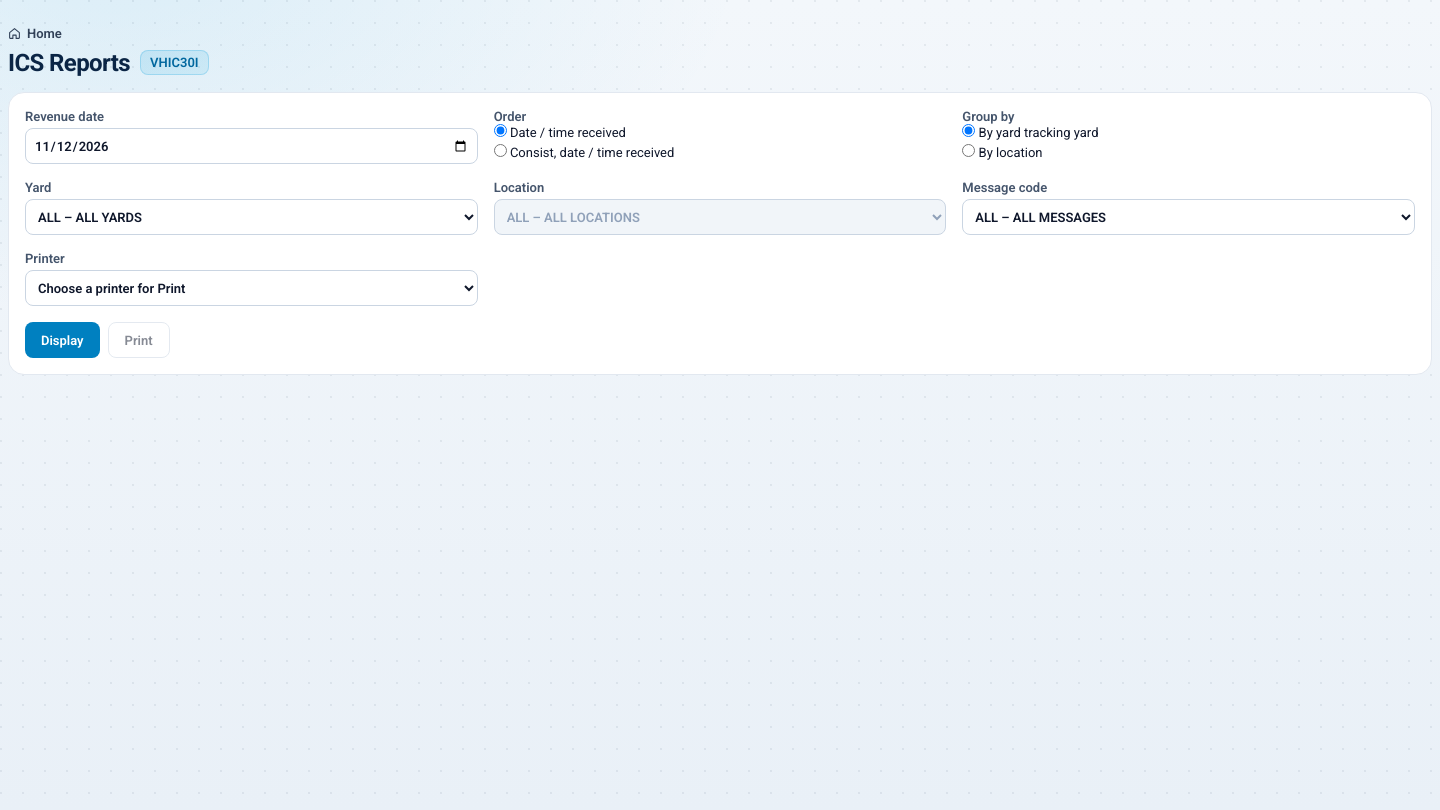
Test case: ICS reports page (old VHIC30I / VHIC31I) › Display asks for the messages with the chosen criteria and lists them
Type "2026-11-10" into the date field labelled "Revenue date". click: (251, 146)
box: [25,128,478,164]
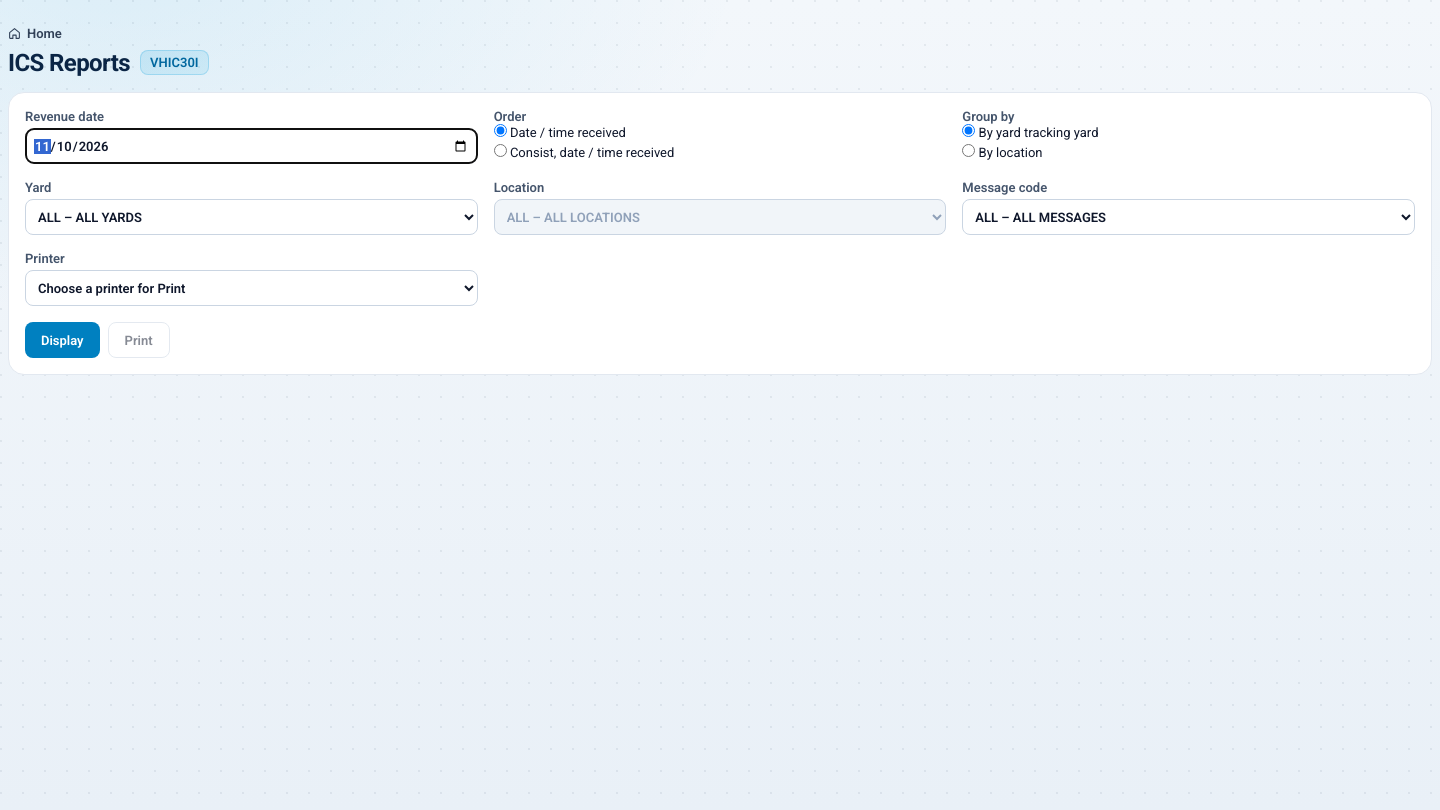
Select "CY – CONCORD YARD" in the dropdown labelled "Yard". click: (251, 217)
box: [25,199,478,235]
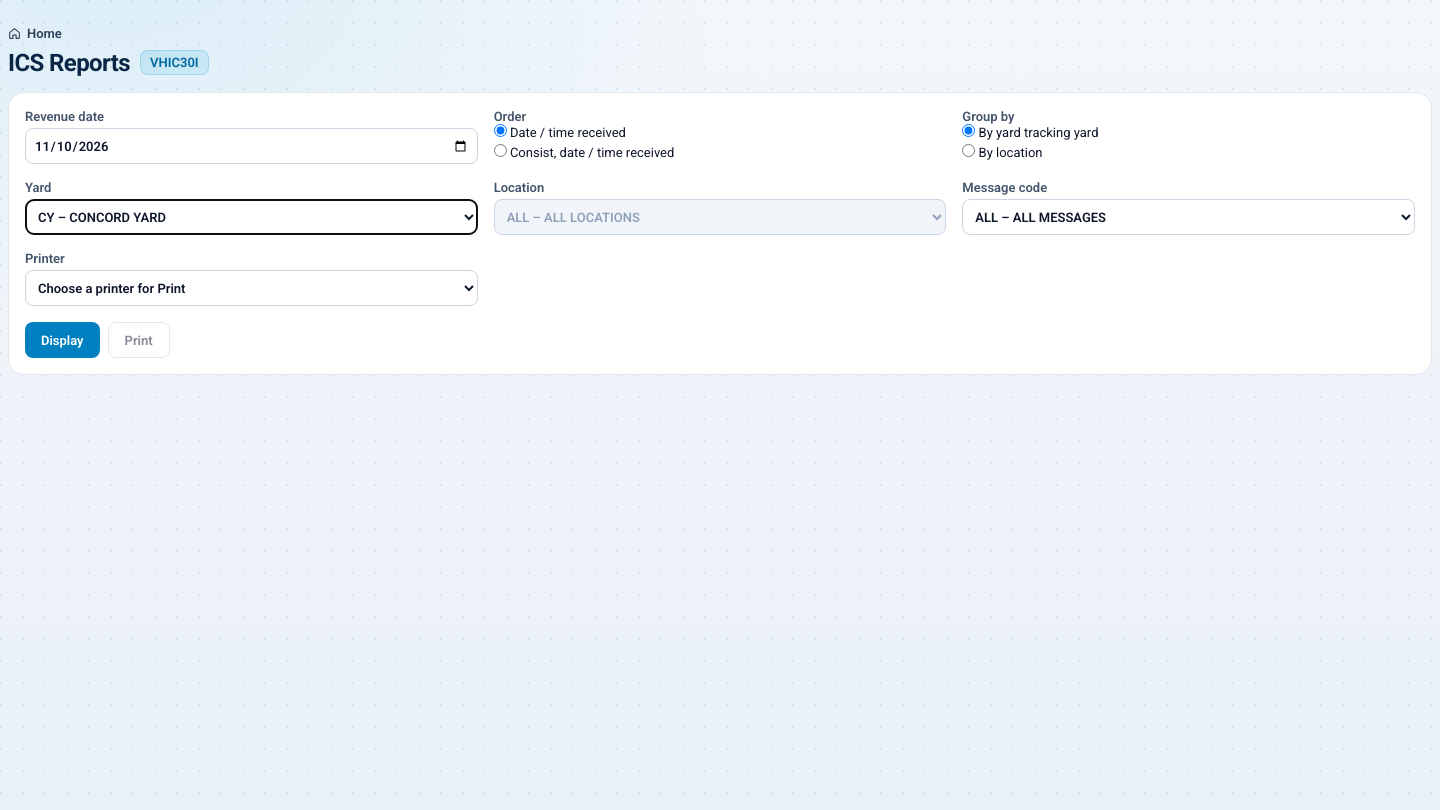
Click the button "Display". click: (62, 340)
box: [25,322,100,358]
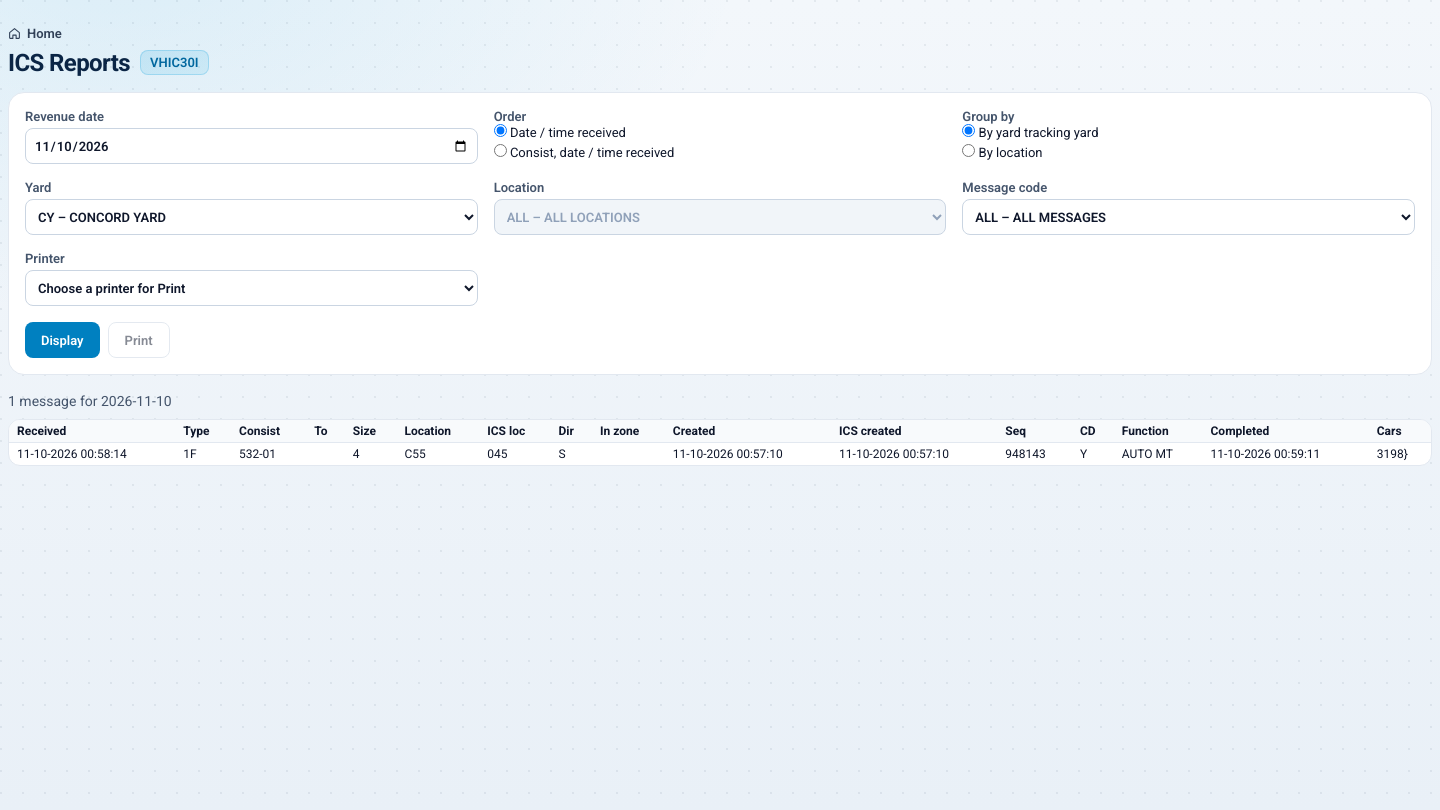
Check: the text "532-01" is shown, box [231,442,306,465]
Check: the text "1 message for 2026-11-10" is shown, box [8,393,172,409]
